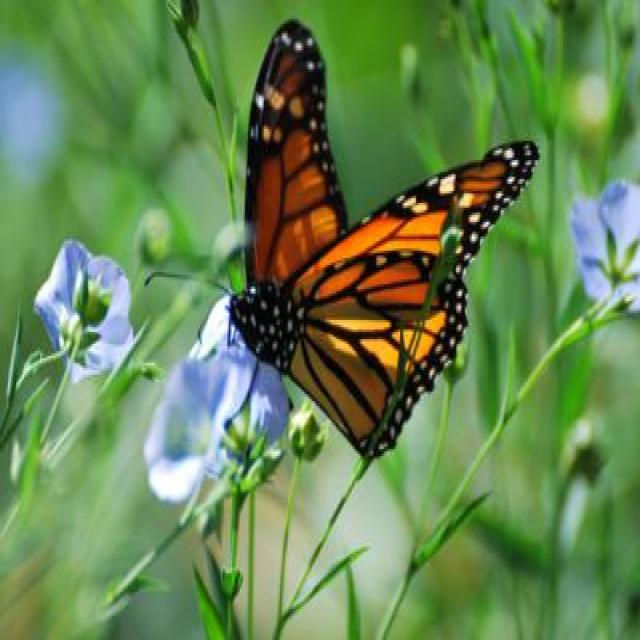antennae: (145, 263, 237, 345)
body: (227, 271, 426, 398)
insect: (144, 21, 538, 462)
wings: (245, 21, 540, 459)
